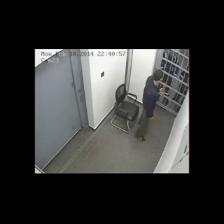person: (136, 70, 164, 140)
